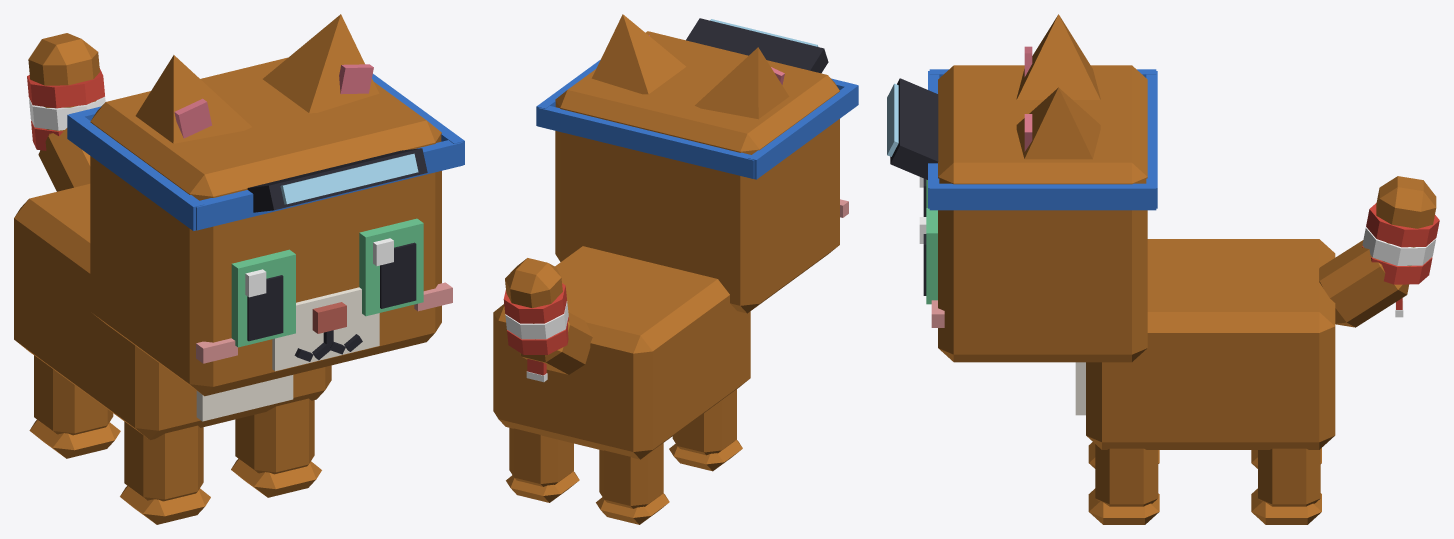
The model's file is CatCafe_Cat_Ski.glb.
3 renders of one model, left to right at view 1: azimuth 30°, elevation 25°; view 2: azimuth 150°, elevation 25°; view 3: azimuth 270°, elevation 25°, orthographic. The views are drawn at different scales.
Visible parts, largest first — view 1: CatCafe_Cat_Ski_Head, CatCafe_Cat_Ski_Body, CatCafe_Cat_Ski_Prop, CatCafe_Cat_Ski_LegF2, CatCafe_Cat_Ski_LegF1, CatCafe_Cat_Ski_EarL, CatCafe_Cat_Ski_Eye2, CatCafe_Cat_Ski_Eye1, CatCafe_Cat_Ski_LegB2, CatCafe_Cat_Ski_EarR, CatCafe_Cat_Ski_Tail, CatCafe_Cat_Ski_Tail_Scarf; view 2: CatCafe_Cat_Ski_Head, CatCafe_Cat_Ski_Body, CatCafe_Cat_Ski_Prop, CatCafe_Cat_Ski_LegB2, CatCafe_Cat_Ski_EarL, CatCafe_Cat_Ski_LegB1, CatCafe_Cat_Ski_Tail, CatCafe_Cat_Ski_EarR, CatCafe_Cat_Ski_Tail_Scarf, CatCafe_Cat_Ski_LegF2; view 3: CatCafe_Cat_Ski_Head, CatCafe_Cat_Ski_Body, CatCafe_Cat_Ski_Prop, CatCafe_Cat_Ski_Tail, CatCafe_Cat_Ski_LegF1, CatCafe_Cat_Ski_LegB1, CatCafe_Cat_Ski_EarL, CatCafe_Cat_Ski_EarR, CatCafe_Cat_Ski_Tail_Scarf, CatCafe_Cat_Ski_Eye1.
Part boxes in pixels (x1=…): CatCafe_Cat_Ski_Head: x1=90, y1=57, x2=452, y2=396; CatCafe_Cat_Ski_Body: x1=14, y1=184, x2=331, y2=439; CatCafe_Cat_Ski_Prop: x1=67, y1=74, x2=464, y2=230; CatCafe_Cat_Ski_LegF2: x1=120, y1=421, x2=210, y2=524; CatCafe_Cat_Ski_LegF1: x1=231, y1=398, x2=321, y2=497; CatCafe_Cat_Ski_EarL: x1=263, y1=14, x2=379, y2=113; CatCafe_Cat_Ski_Eye2: x1=231, y1=249, x2=295, y2=347; CatCafe_Cat_Ski_Eye1: x1=359, y1=218, x2=423, y2=316; CatCafe_Cat_Ski_LegB2: x1=29, y1=355, x2=120, y2=458; CatCafe_Cat_Ski_EarR: x1=135, y1=55, x2=251, y2=143; CatCafe_Cat_Ski_Tail: x1=28, y1=33, x2=99, y2=191; CatCafe_Cat_Ski_Tail_Scarf: x1=27, y1=68, x2=105, y2=150; CatCafe_Cat_Ski_Head: x1=555, y1=31, x2=848, y2=313; CatCafe_Cat_Ski_Body: x1=493, y1=246, x2=750, y2=459; CatCafe_Cat_Ski_Prop: x1=536, y1=18, x2=858, y2=179; CatCafe_Cat_Ski_LegB2: x1=596, y1=443, x2=669, y2=524; CatCafe_Cat_Ski_EarL: x1=591, y1=14, x2=685, y2=94; CatCafe_Cat_Ski_LegB1: x1=506, y1=428, x2=579, y2=502; CatCafe_Cat_Ski_Tail: x1=505, y1=258, x2=592, y2=374; CatCafe_Cat_Ski_EarR: x1=695, y1=47, x2=789, y2=119; CatCafe_Cat_Ski_Tail_Scarf: x1=503, y1=283, x2=568, y2=382; CatCafe_Cat_Ski_LegF2: x1=669, y1=389, x2=742, y2=471; CatCafe_Cat_Ski_Head: x1=931, y1=65, x2=1147, y2=362; CatCafe_Cat_Ski_Body: x1=1075, y1=239, x2=1335, y2=449; CatCafe_Cat_Ski_Prop: x1=887, y1=69, x2=1157, y2=210; CatCafe_Cat_Ski_Tail: x1=1319, y1=176, x2=1436, y2=327; CatCafe_Cat_Ski_LegF1: x1=1088, y1=444, x2=1159, y2=524; CatCafe_Cat_Ski_LegB1: x1=1251, y1=448, x2=1321, y2=524; CatCafe_Cat_Ski_EarL: x1=1016, y1=87, x2=1100, y2=159; CatCafe_Cat_Ski_EarR: x1=1016, y1=14, x2=1100, y2=99; CatCafe_Cat_Ski_Tail_Scarf: x1=1362, y1=203, x2=1439, y2=317; CatCafe_Cat_Ski_Eye1: x1=919, y1=208, x2=937, y2=304.
Size of the model in its own units: 1.08 by 1.86 by 2.11.
1 material, 1 textured.
